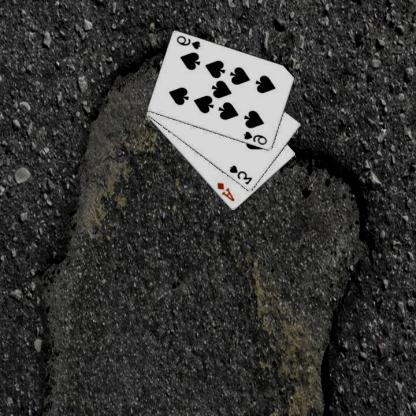3S: (229, 163, 255, 186)
9S: (176, 33, 203, 51), (242, 129, 270, 146)
AD: (216, 180, 238, 203)
